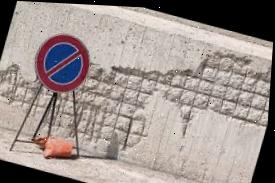spalling: (0, 49, 272, 151)
